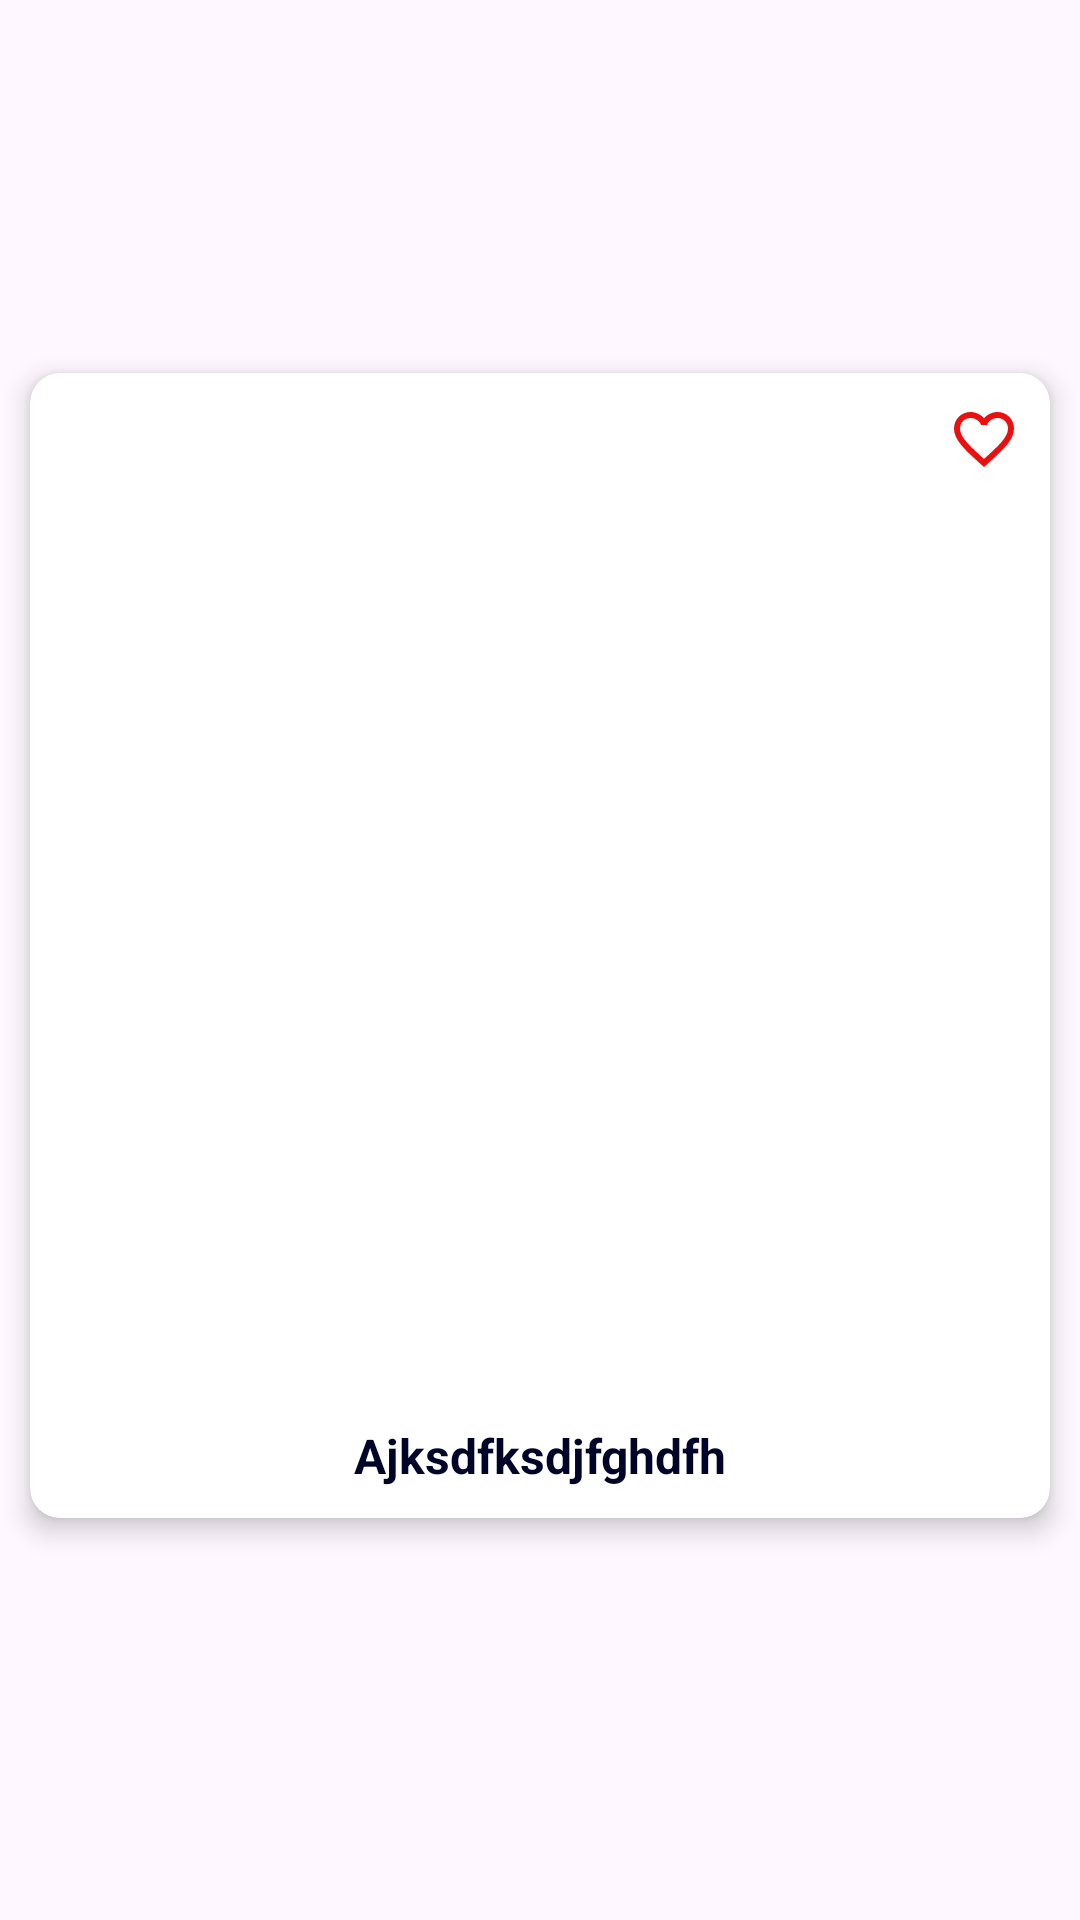

Locate icon controls on the screen. Image size 1080*1920, boxes as (x1, y1, x2, y2).
favorite border: (954, 412, 1014, 467)
